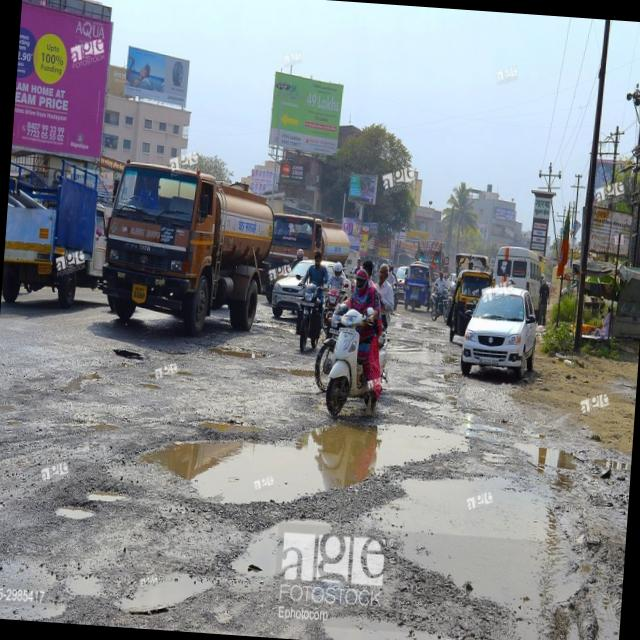Potholes: (347, 447, 630, 640), (121, 396, 481, 524), (214, 482, 368, 590), (101, 540, 218, 628), (0, 531, 98, 625), (46, 480, 138, 532), (384, 374, 448, 432), (210, 330, 272, 374), (109, 343, 157, 380)
